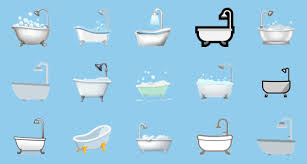bathub: (11, 16, 53, 54), (191, 23, 236, 55), (69, 123, 115, 152), (69, 76, 114, 103), (192, 132, 240, 156), (252, 24, 296, 50), (10, 78, 54, 104), (70, 25, 113, 49), (133, 79, 176, 103), (255, 136, 299, 159), (197, 78, 239, 102), (10, 131, 51, 155), (131, 28, 174, 50), (254, 78, 301, 98), (132, 134, 174, 155)
